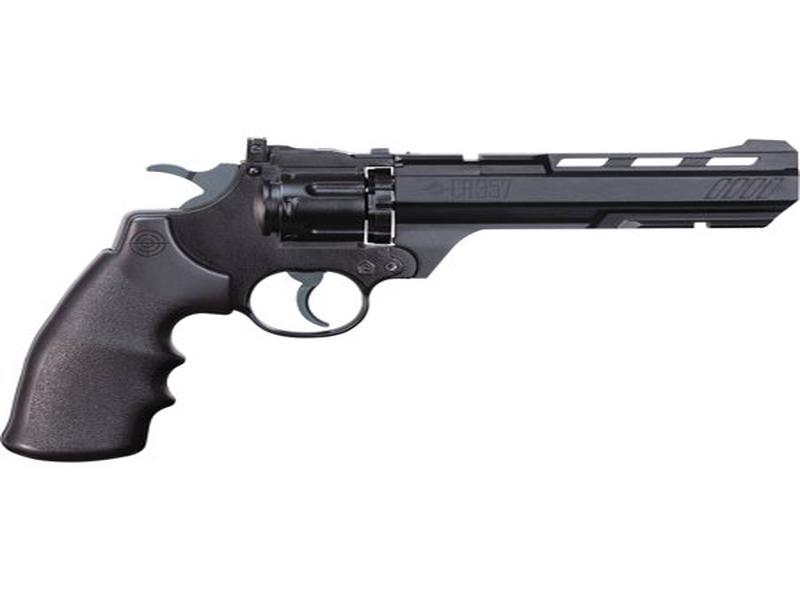Revolver: (92, 106, 800, 421)
